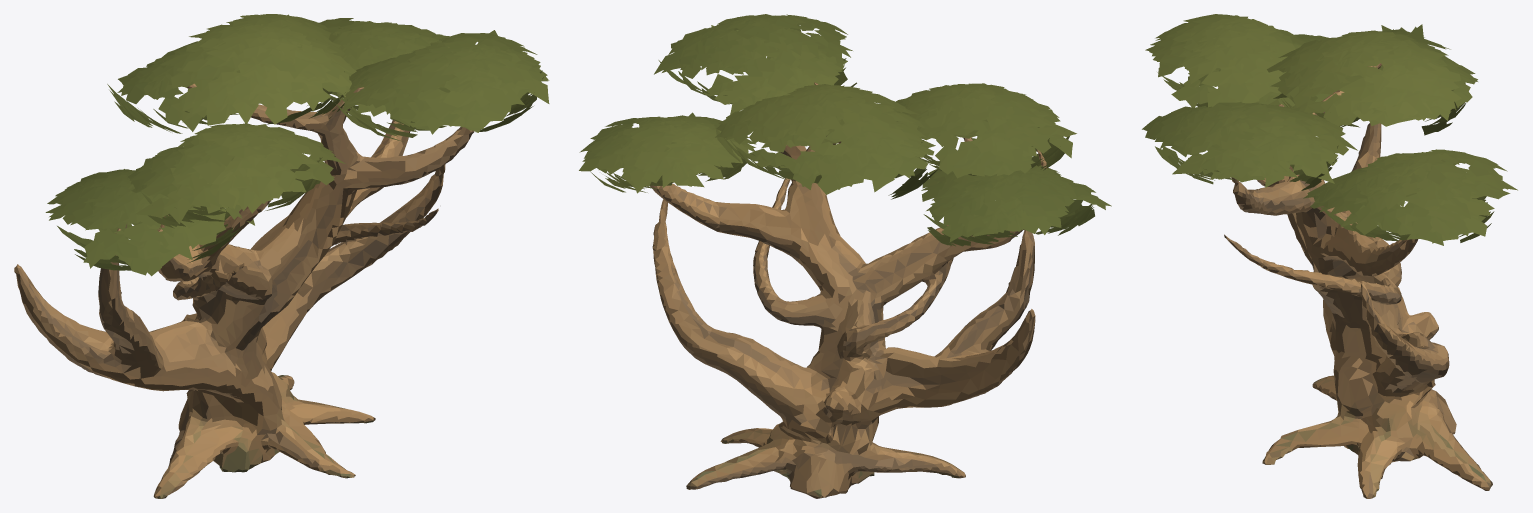
File: reedside.glb
3 renders of one model, left to right at view 1: azimuth 30°, elevation 25°; view 2: azimuth 150°, elevation 25°; view 3: azimuth 270°, elevation 25°, orthographic. The views are drawn at different scales.
Visible parts, largest first — view 1: reedside broad layered branch fans, reedside continuous living boughs metre-v2; view 2: reedside broad layered branch fans, reedside continuous living boughs metre-v2; view 3: reedside broad layered branch fans, reedside continuous living boughs metre-v2.
Part boxes in pixels (x1=…): reedside broad layered branch fans: x1=45, y1=14, x2=549, y2=276; reedside continuous living boughs metre-v2: x1=14, y1=83, x2=474, y2=498; reedside broad layered branch fans: x1=579, y1=14, x2=1111, y2=246; reedside continuous living boughs metre-v2: x1=650, y1=82, x2=1046, y2=498; reedside broad layered branch fans: x1=1142, y1=14, x2=1517, y2=245; reedside continuous living boughs metre-v2: x1=1224, y1=63, x2=1492, y2=498.
Size of the model in its own units: 9.55 by 8.02 by 6.73.
